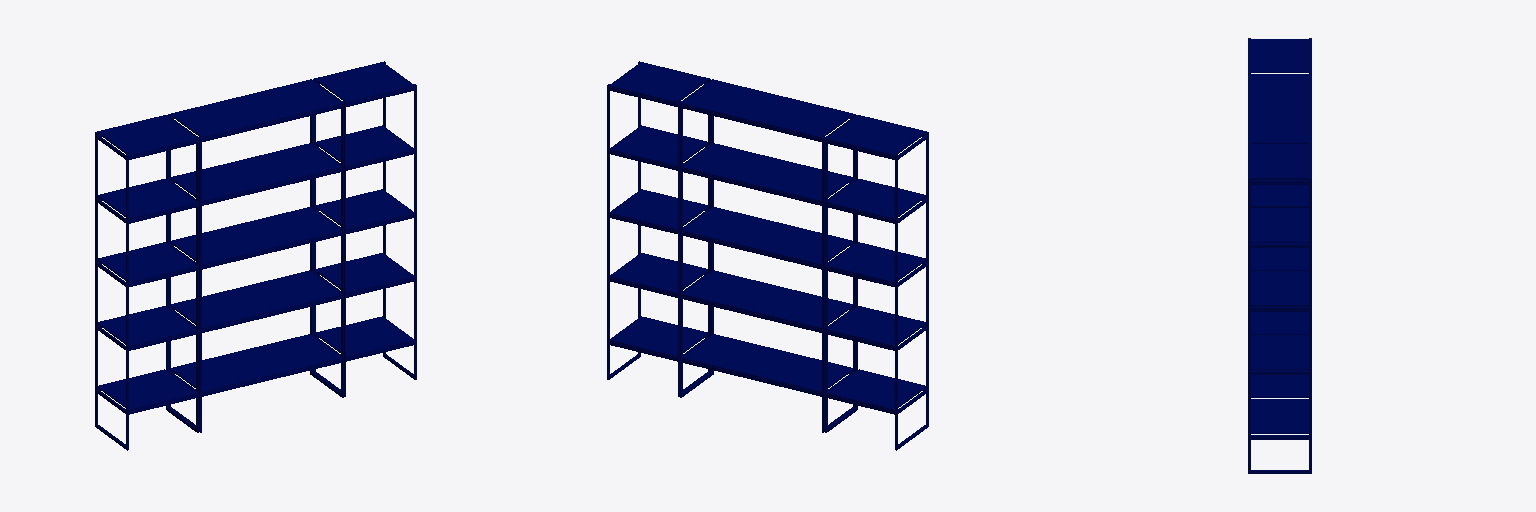
3 renders of one model, left to right at view 1: azimuth 30°, elevation 25°; view 2: azimuth 150°, elevation 25°; view 3: azimuth 270°, elevation 25°, orthographic.
Visible parts, largest first — view 1: 货架4; view 2: 货架4; view 3: 货架4.
Part boxes in pixels (x1,y1,x2,y2): 货架4: (95, 61, 416, 450); 货架4: (607, 61, 928, 450); 货架4: (1248, 38, 1311, 473).
Bounding box in the file's own units: 13.08 × 12.73 × 2.53.